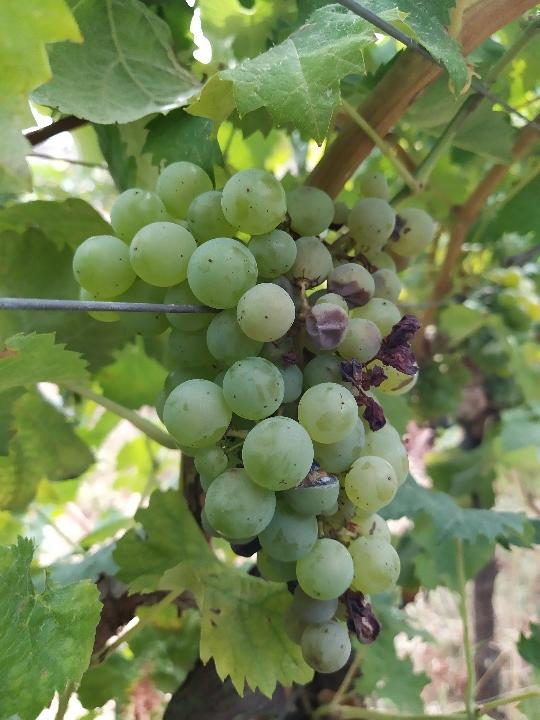grape: (68, 160, 426, 678)
